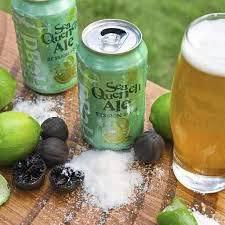beer: (78, 18, 145, 150), (12, 1, 81, 93)
